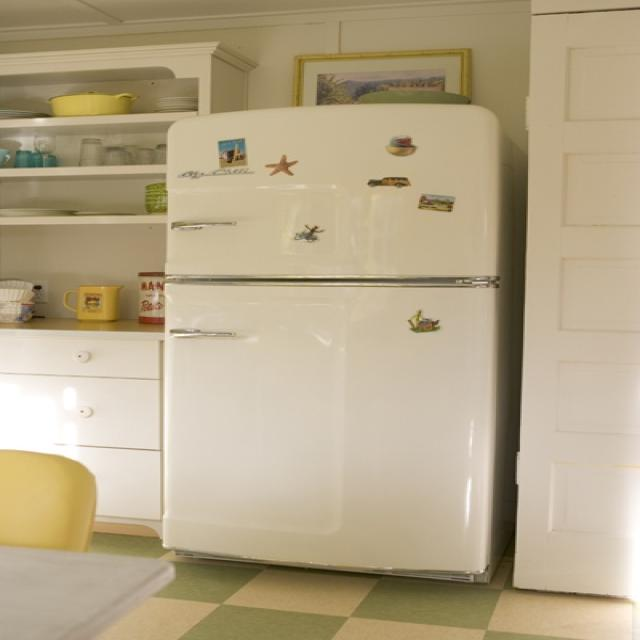obstacle: (158, 102, 506, 584), (0, 543, 174, 639)
